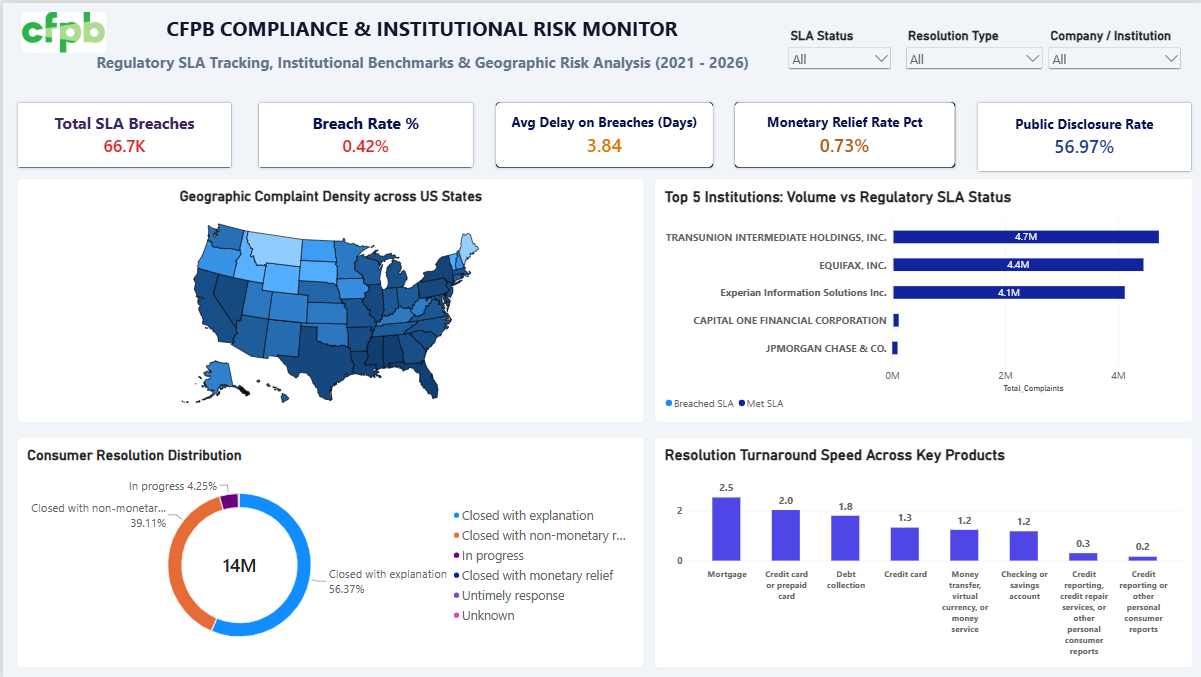

This screenshot's page, from the dashboard's own definition file:
{"tool":"powerbi","page":{"name":"Institutional Risk & SLAs","canvas":[1920,1080],"ordinal":1},"visuals":[{"type":"cardVisual","fields":{"Data":["_Measures.Total SLA Breaches"]},"box":[22,158,345,106],"z":0},{"type":"textbox","box":[98,18,1154,58],"z":1000},{"type":"textbox","box":[98,78,1154,34],"z":2000},{"type":"slicer","fields":{"Values":["Query1.timely_response"]},"box":[1252,40,174,88],"z":3000},{"type":"slicer","fields":{"Values":["Query1.company_response_to_consumer"]},"box":[1440,40,228,88],"z":4000},{"type":"slicer","fields":{"Values":["Query1.company"]},"box":[1668,40,222,88],"z":5000},{"type":"cardVisual","fields":{"Data":["_Measures.SLA Breach Rate Pct"]},"box":[408,158,345,106],"z":6000},{"type":"cardVisual","fields":{"Data":["_Measures.Avg Breach Delay Days"]},"box":[788,158,349,106],"z":7000},{"type":"cardVisual","fields":{"Data":["_Measures.Public Response Adoption Pct"]},"box":[1558,158,345,112],"z":8000},{"type":"cardVisual","fields":{"Data":["_Measures.Monetary Relief Rate Pct"]},"box":[1170,158,354,106],"z":9000},{"type":"shapeMap","title":"Geographic Complaint Density across US States","fields":{"Category":["Query1.state"],"Value":["_Measures.Timely Response Rate Pct"]},"box":[22,280,1004,392],"z":10000},{"type":"barChart","title":"Top 5 Institutions: Volume vs Regulatory SLA Status","fields":{"Category":["Query1.company"],"Series":["Query1.SLA_Status"],"Y":["Query1.Total_Complaints"]},"box":[1042,280,862,392],"z":11000},{"type":"clusteredColumnChart","title":"Resolution Turnaround Speed Across Key Products","fields":{"Category":["Query1.product"],"Y":["_Measures.Avg Response Days"]},"box":[1042,694,862,370],"z":12000},{"type":"donutChart","title":"Consumer Resolution Distribution","fields":{"Category":["Query1.company_response_to_consumer"],"Y":["Query1.Total_Complaints"]},"box":[22,694,1004,370],"z":13000},{"type":"image","box":[30,7.5,135,77.5],"z":13001}]}

Visuals, with their boxes in screenshot pixels (x1, y1, x2, y2), scaled from the page's 1920x1080 canvas onto the 1201x677 screenshot:
cardVisual - _Measures.Total SLA Breaches: [14,99,230,165]
textbox: [61,11,783,48]
textbox: [61,49,783,70]
slicer - Query1.timely_response: [783,25,892,80]
slicer - Query1.company_response_to_consumer: [901,25,1043,80]
slicer - Query1.company: [1043,25,1182,80]
cardVisual - _Measures.SLA Breach Rate Pct: [255,99,471,165]
cardVisual - _Measures.Avg Breach Delay Days: [493,99,711,165]
cardVisual - _Measures.Public Response Adoption Pct: [975,99,1190,169]
cardVisual - _Measures.Monetary Relief Rate Pct: [732,99,953,165]
"Geographic Complaint Density across US States" shapeMap: [14,176,642,421]
"Top 5 Institutions: Volume vs Regulatory SLA Status" barChart: [652,176,1191,421]
"Resolution Turnaround Speed Across Key Products" clusteredColumnChart: [652,435,1191,667]
"Consumer Resolution Distribution" donutChart: [14,435,642,667]
image: [19,5,103,53]
